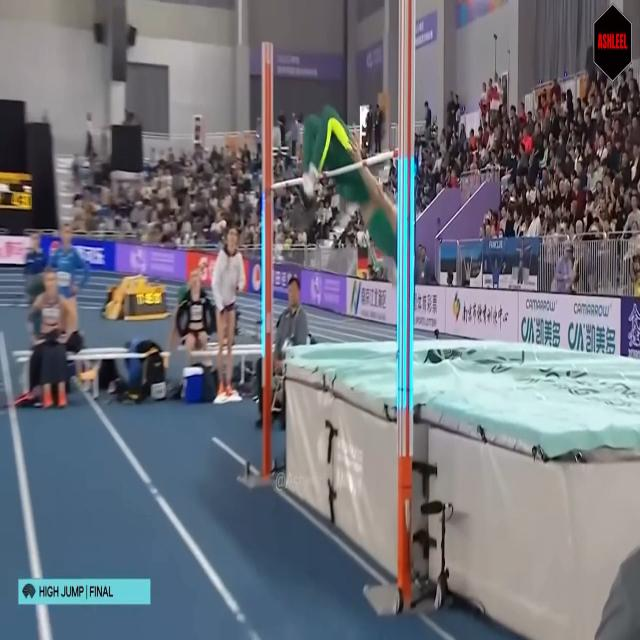jump: (286, 105, 398, 261)
